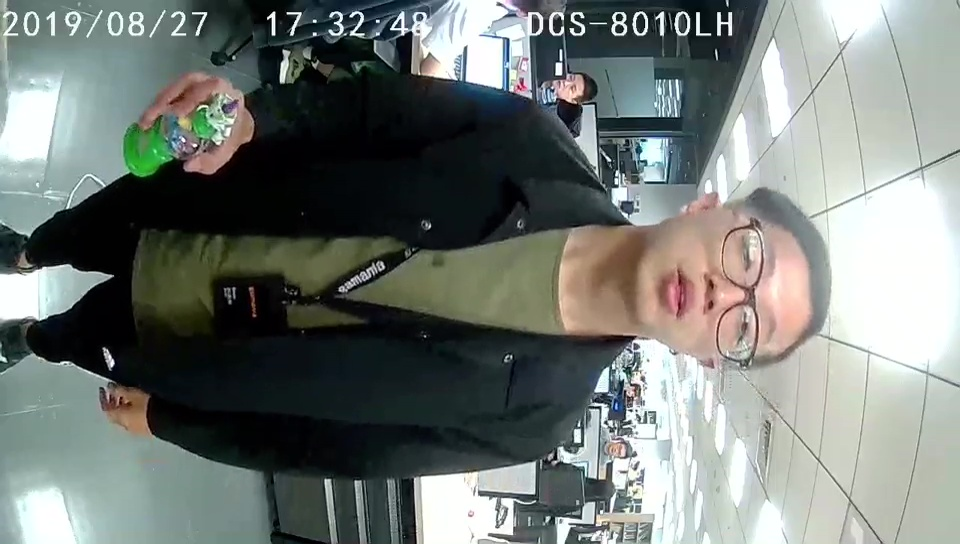buzz: (124, 90, 242, 181)
